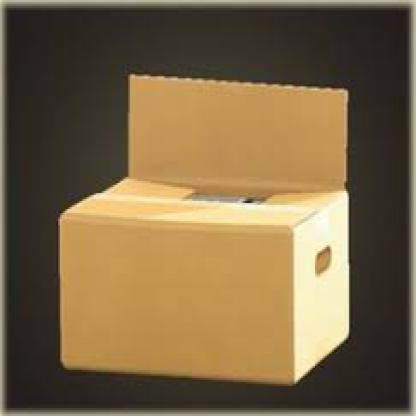CARDBOARD: (55, 70, 347, 382)
